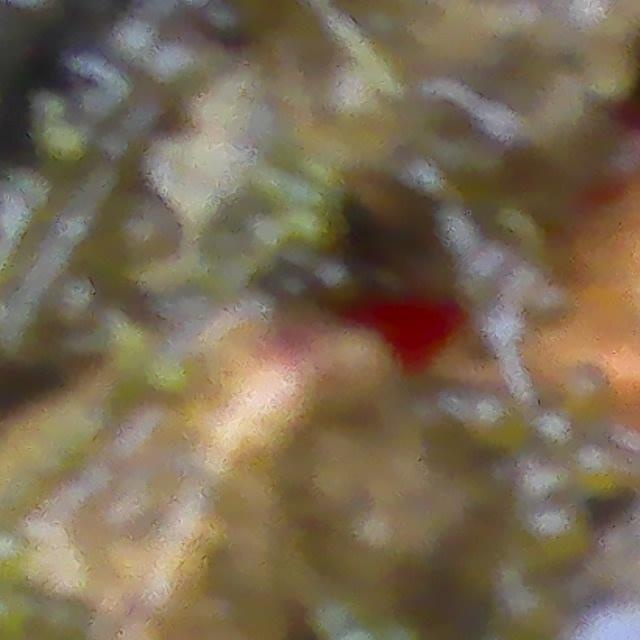SeaGrape: (102, 185, 178, 259), (49, 267, 101, 337)
